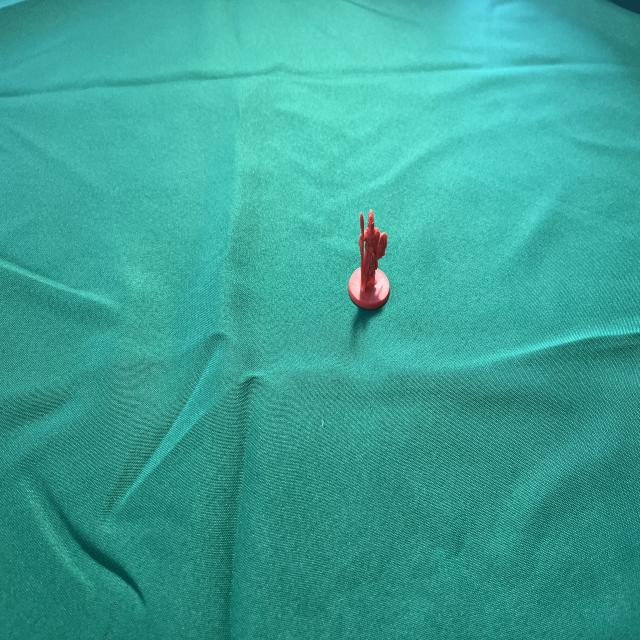amon_follower: (348, 210, 390, 308)
